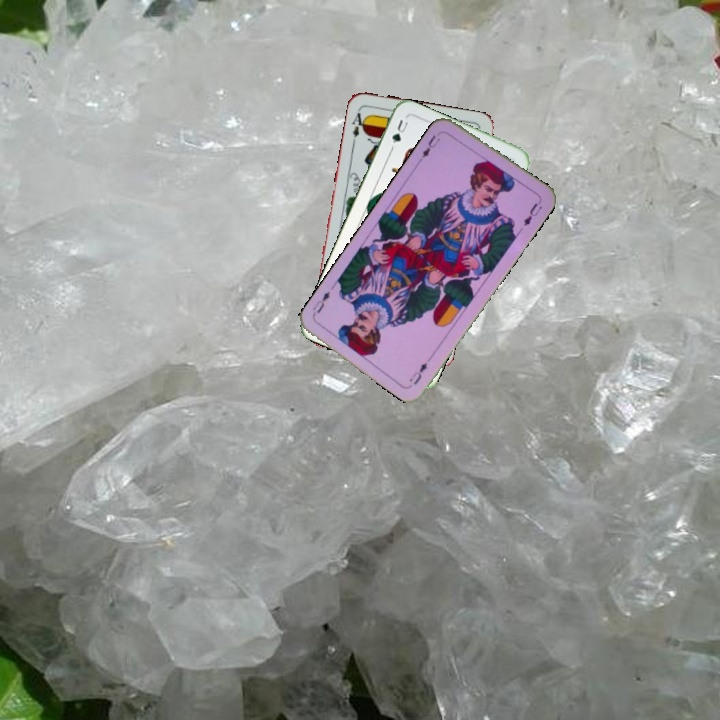EA: (348, 105, 369, 146)
EU: (405, 352, 435, 387), (415, 131, 443, 164)
GU: (388, 115, 412, 146)
